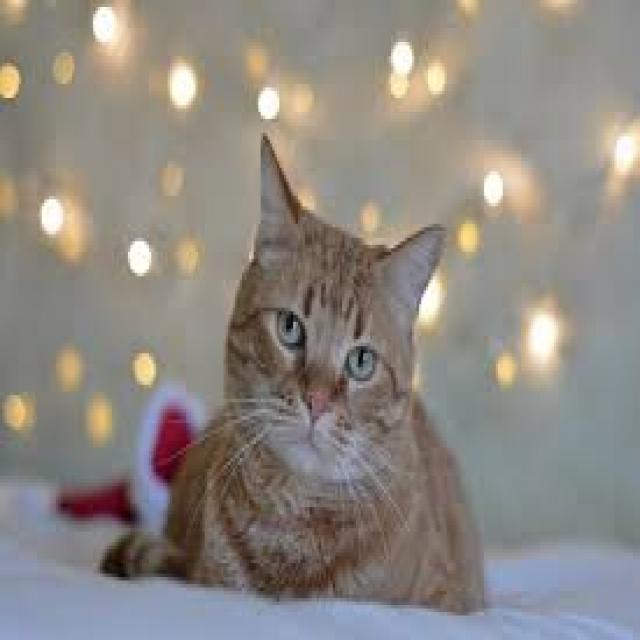Cat: (98, 117, 494, 617)
